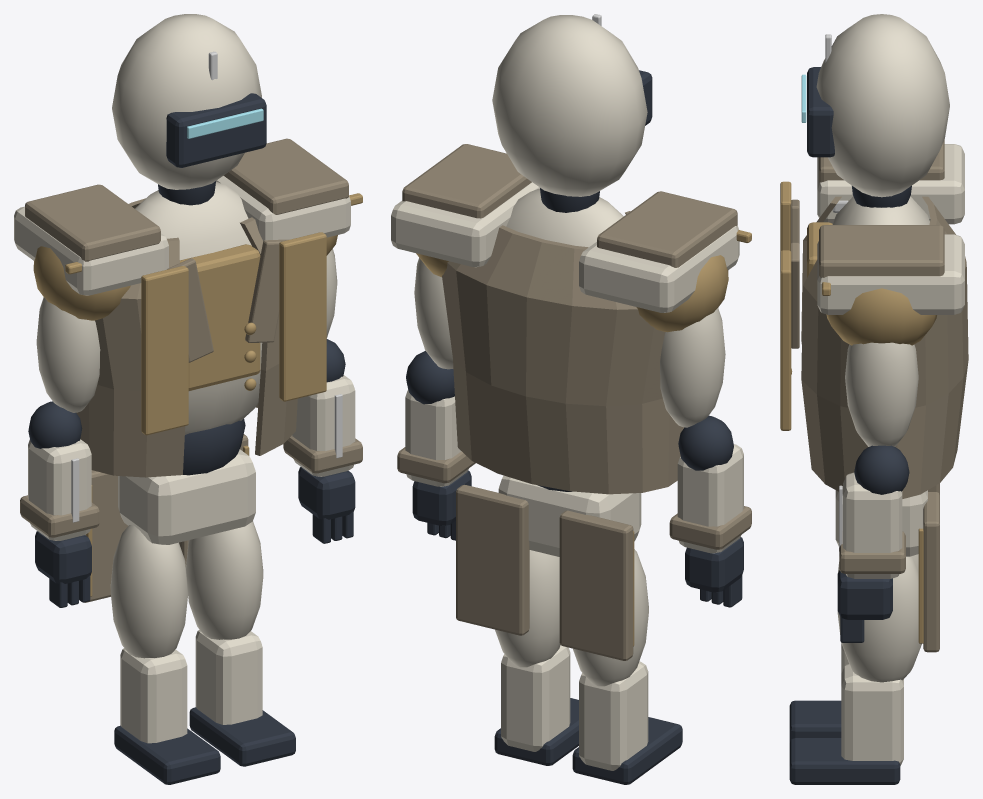
Rendered from council.glb.
The picture shows the model from 3 angles, left to right: view 1: azimuth 30°, elevation 25°; view 2: azimuth 150°, elevation 25°; view 3: azimuth 270°, elevation 25°; orthographic projection. The views are drawn at different scales.
Visible parts, largest first — view 1: Helmet, Consular stole, Pelvis, Thigh R, Articulated thorax, Consular broad stole, Consular broad stole.001, Thigh L, Sternum shield, Consular shoulder tablet, Consular shoulder tablet.001, Shin L (+23 smaller); view 2: Consular stole, Helmet, Consular stole articulated skirt R, Consular stole articulated skirt L, Consular shoulder tablet, Ceremonial layered mantle, Consular shoulder tablet.001, Shin R, Shin L, Upper arm R, Ceremonial layered mantle.001, Pelvis (+16 smaller); view 3: Helmet, Consular stole, Upper arm L, Consular shoulder tablet.001, Shin L, Thigh L, Ceremonial layered mantle.001, Bracer L, Shoulder L, Foot L, Ceremonial layered mantle, Consular stole articulated skirt L (+16 smaller).
Boxes of the visible parts, x1,y1,x2,y2 form: Helmet: [112, 14, 261, 189]; Consular stole: [76, 198, 297, 477]; Pelvis: [118, 449, 255, 544]; Thigh R: [110, 525, 187, 658]; Articulated thorax: [135, 182, 262, 434]; Consular broad stole: [141, 266, 188, 435]; Consular broad stole.001: [279, 232, 326, 401]; Thigh L: [186, 521, 263, 639]; Sternum shield: [179, 244, 260, 390]; Consular shoulder tablet: [25, 184, 160, 261]; Consular shoulder tablet.001: [223, 138, 348, 214]; Shin L: [195, 630, 262, 724]; Consular stole: [442, 211, 684, 494]; Helmet: [492, 15, 647, 196]; Consular stole articulated skirt R: [559, 510, 633, 660]; Consular stole articulated skirt L: [456, 484, 529, 635]; Consular shoulder tablet: [597, 191, 737, 267]; Ceremonial layered mantle: [579, 225, 739, 312]; Consular shoulder tablet.001: [402, 144, 531, 218]; Shin R: [579, 661, 648, 770]; Shin L: [501, 645, 570, 751]; Upper arm R: [660, 308, 725, 427]; Ceremonial layered mantle.001: [391, 182, 539, 267]; Pelvis: [498, 475, 641, 556]; Helmet: [816, 14, 949, 197]; Consular stole: [801, 196, 968, 498]; Upper arm L: [845, 342, 918, 446]; Consular shoulder tablet.001: [819, 225, 944, 277]; Shin L: [841, 664, 903, 765]; Thigh L: [837, 556, 921, 682]; Ceremonial layered mantle.001: [817, 234, 964, 314]; Bracer L: [843, 472, 902, 578]; Shoulder L: [826, 288, 936, 345]; Foot L: [789, 738, 900, 784]; Ceremonial layered mantle: [817, 144, 964, 224]; Consular stole articulated skirt L: [923, 492, 939, 652].
Size of the model in its own units: 1 by 2.2 by 0.51.
